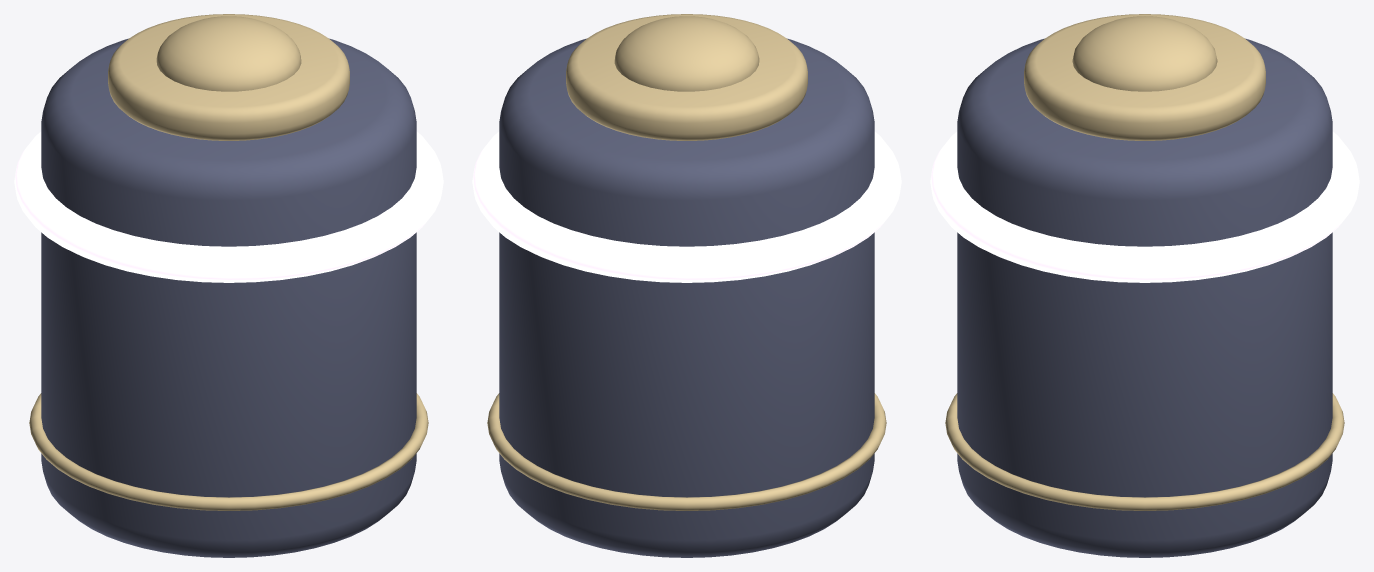
The model's file is RotorHub.fbx.
3 renders of one model, left to right at view 1: azimuth 30°, elevation 25°; view 2: azimuth 150°, elevation 25°; view 3: azimuth 270°, elevation 25°, orthographic.
Visible parts, largest first — view 1: Drum, Ring, Cap, Dome, Band; view 2: Drum, Ring, Cap, Dome, Band; view 3: Drum, Ring, Cap, Dome, Band.
Boxes of the visible parts, bbox=[...] form: Drum: bbox=[41, 38, 416, 557]; Ring: bbox=[14, 131, 443, 282]; Cap: bbox=[108, 14, 349, 140]; Dome: bbox=[156, 16, 301, 91]; Band: bbox=[29, 393, 428, 510]; Drum: bbox=[499, 38, 874, 557]; Ring: bbox=[472, 131, 901, 282]; Cap: bbox=[566, 14, 807, 140]; Dome: bbox=[614, 16, 759, 91]; Band: bbox=[487, 393, 886, 510]; Drum: bbox=[957, 38, 1332, 557]; Ring: bbox=[930, 131, 1359, 282]; Cap: bbox=[1024, 14, 1265, 140]; Dome: bbox=[1072, 16, 1217, 91]; Band: bbox=[945, 393, 1344, 510].
Bounding box in the file's own units: 0.71 × 0.84 × 0.71.
